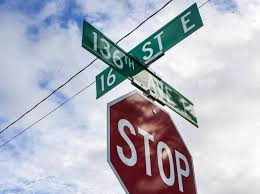SS: (104, 92, 198, 194)
